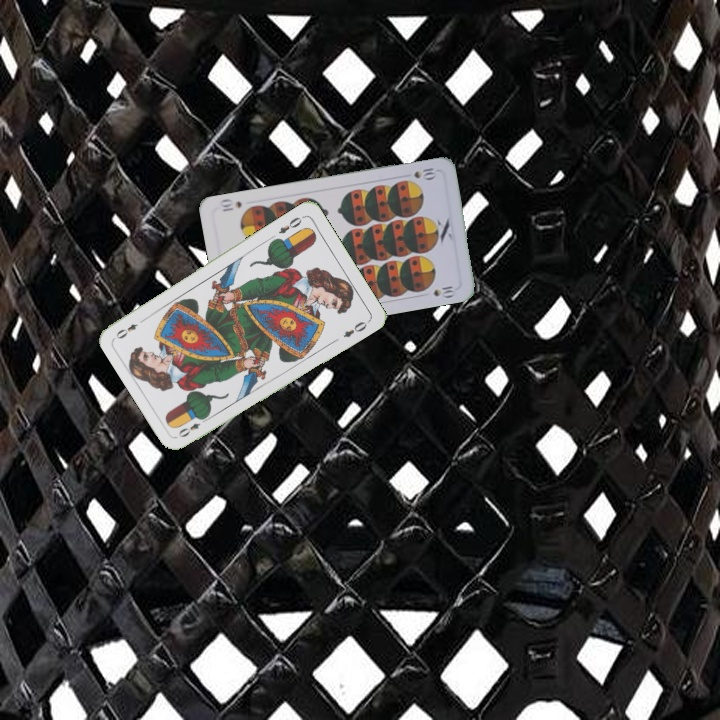EO: (174, 413, 210, 440), (274, 213, 305, 237)
S10: (409, 164, 438, 182)
